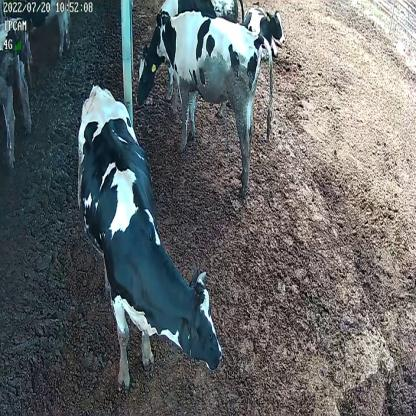cow: (78, 83, 224, 394), (156, 8, 274, 202), (137, 0, 247, 116), (243, 0, 287, 59)
